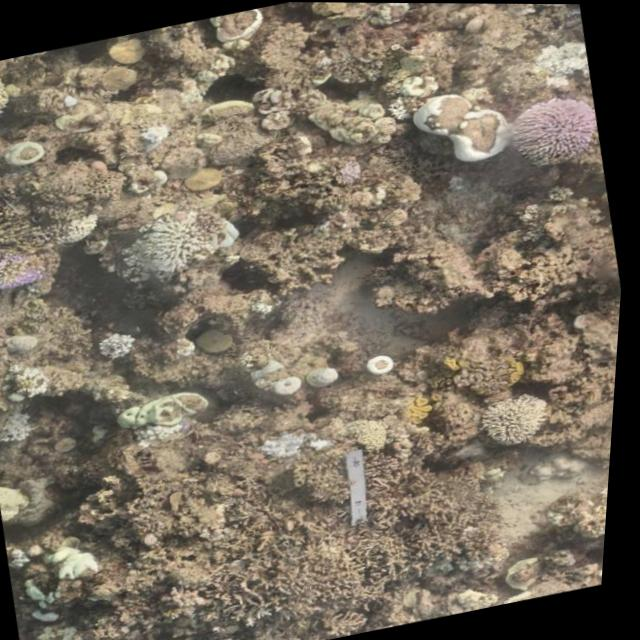Bleached Coral: (395, 70, 527, 194), (104, 201, 241, 294), (472, 379, 566, 459), (512, 21, 595, 100), (41, 199, 118, 252), (255, 425, 326, 470), (0, 402, 53, 450), (304, 353, 357, 401), (89, 328, 149, 370), (121, 121, 182, 161), (0, 316, 30, 365), (249, 298, 284, 322), (597, 538, 612, 584)
